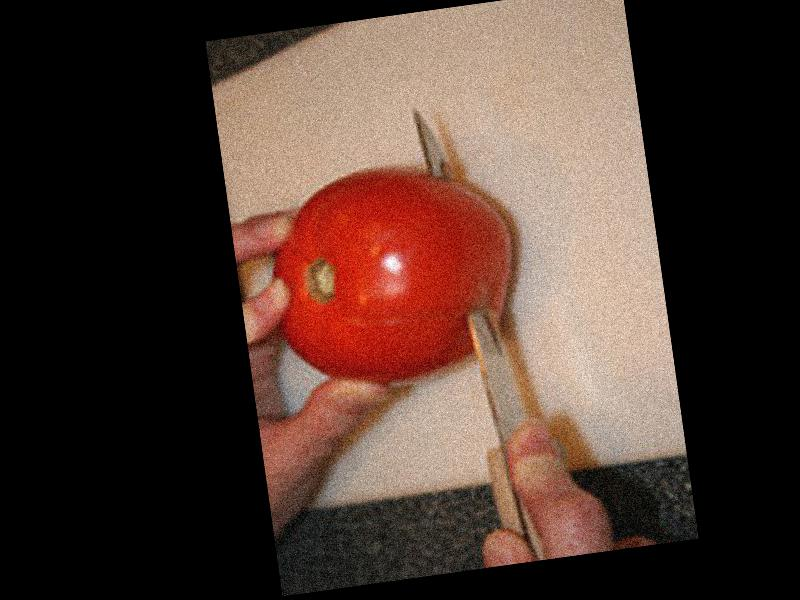Tomato: (257, 149, 527, 396)
